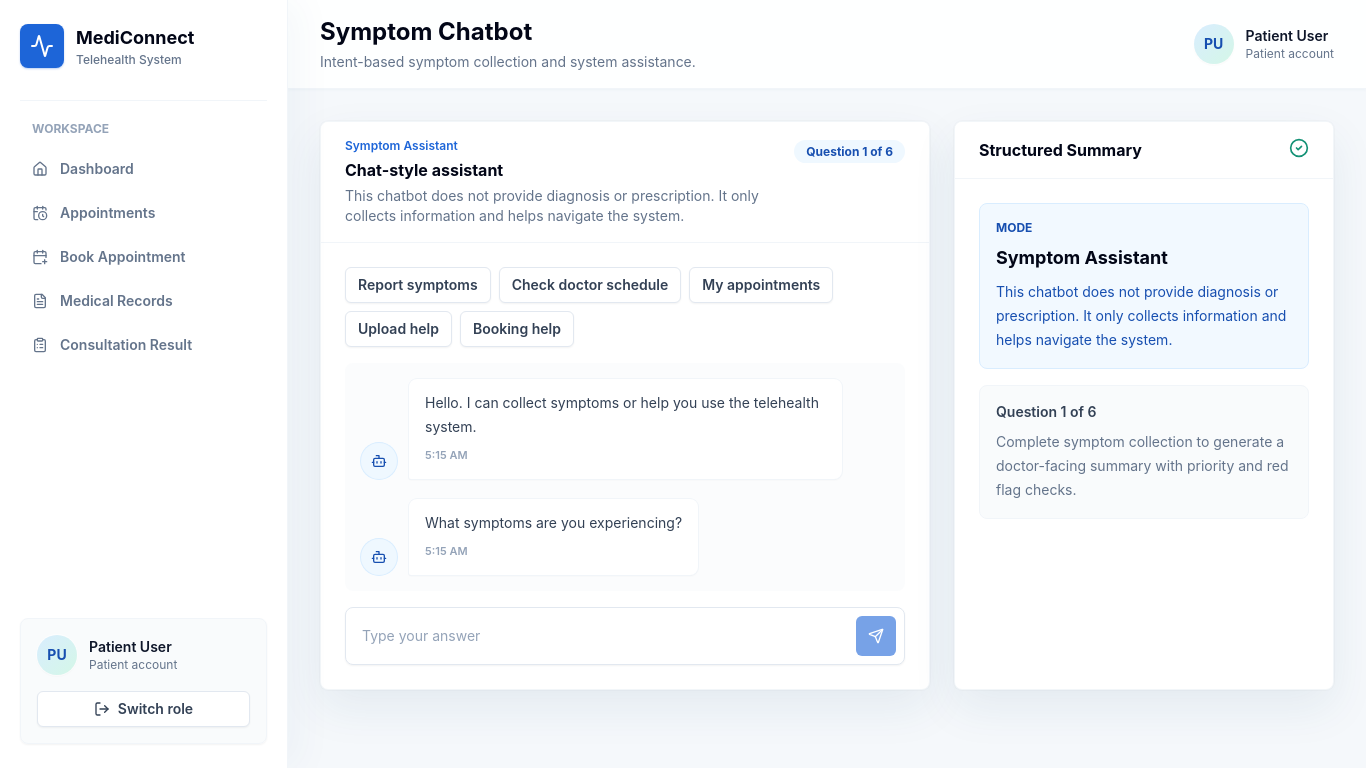
it: Telehealth frontend routes › adds headache follow-up questions during symptom collection
Step 1. Type "Headache" into the field with placeholder "Type your answer" → (599, 636), box [354, 616, 844, 656]
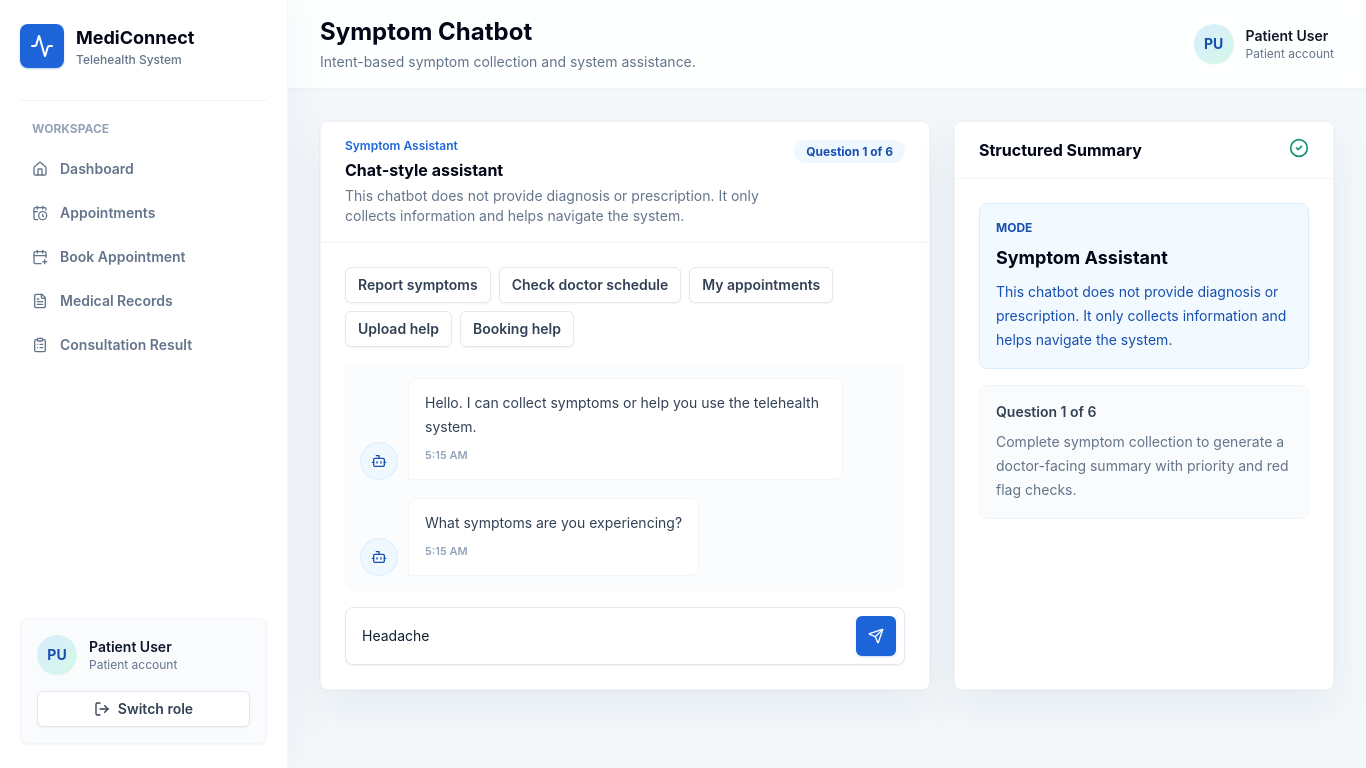
Step 2. Click the button named "send answer" → (876, 636), box [856, 616, 896, 656]
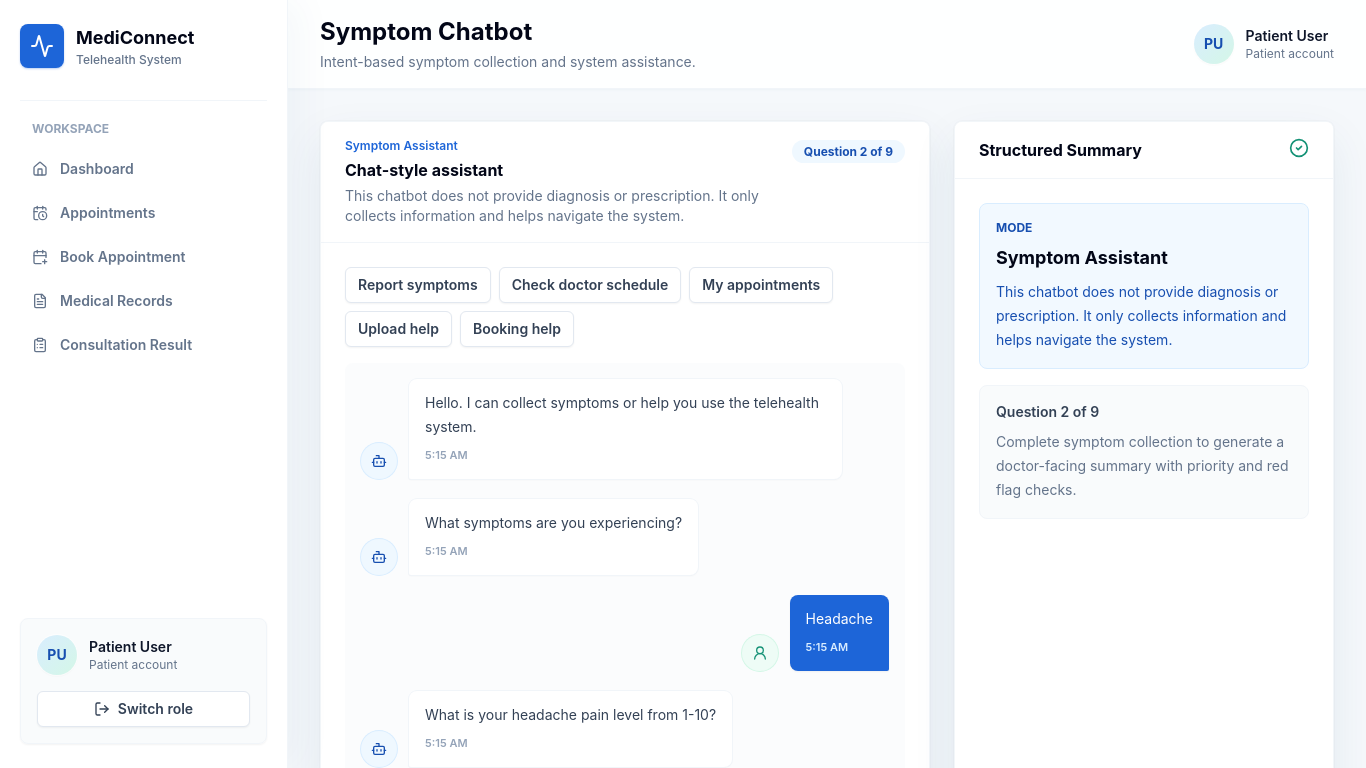
Expected: the text "What is your headache pain level from 1-10?" is shown, [425, 703, 716, 727]
